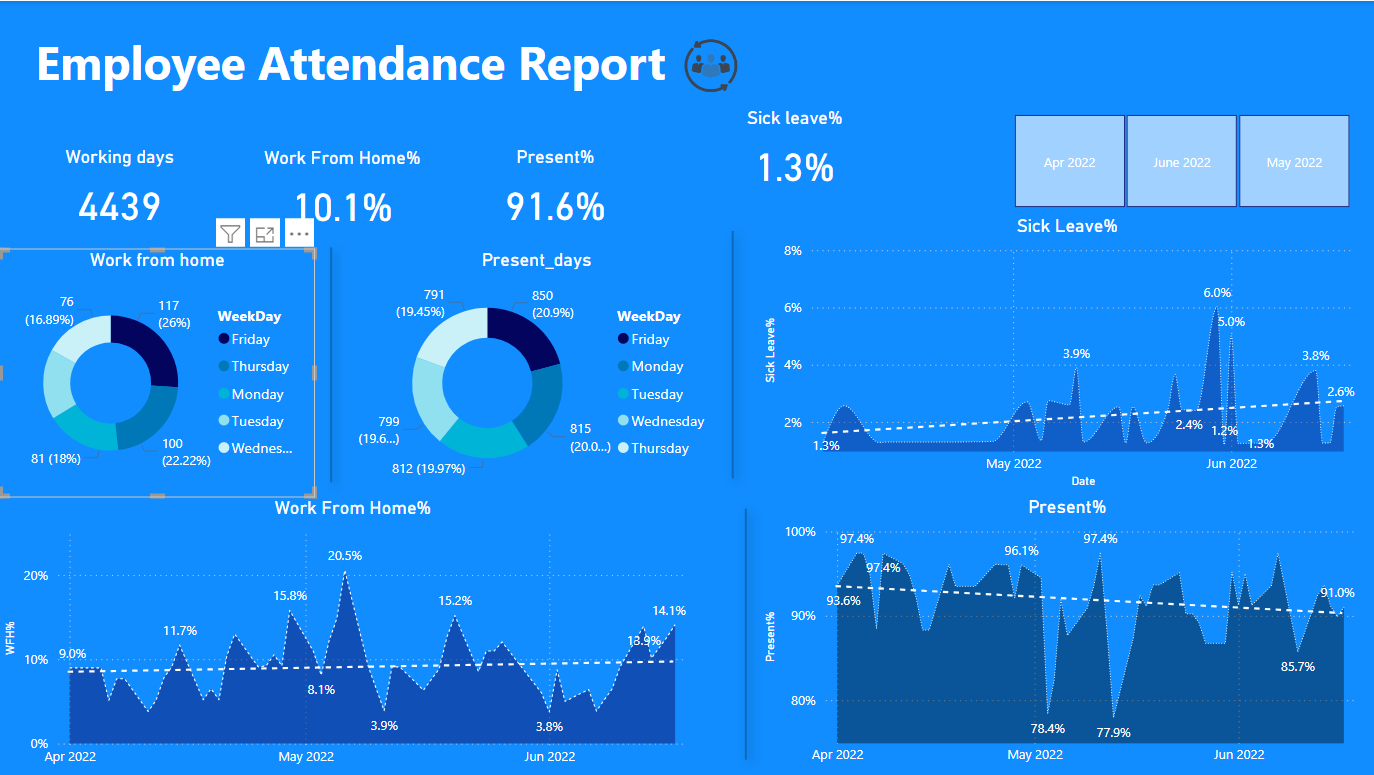

The dashboard page shown, as its layout file describes it:
{"tool":"powerbi","page":{"name":"Page 1","canvas":[1280,720],"ordinal":0},"visuals":[{"type":"card","title":"Working days","fields":{"Values":["Final Data.Total_working_days"]},"box":[12.8,134.9,198.8,87.2],"z":0},{"type":"slicer","fields":{"Values":["Final Data.Sheet No"]},"box":[918.6,98.8,361.6,100],"z":1000},{"type":"donutChart","title":"Present_days ","fields":{"Y":["Final Data.Present_days"],"Category":["Final Data.WeekDay"]},"box":[329.1,230.2,341.9,231.4],"z":2000},{"type":"donutChart","title":"Work from home","fields":{"Y":["Final Data.Work from home"],"Category":["Final Data.WeekDay"]},"box":[0,230.2,294.2,231.4],"z":3000},{"type":"areaChart","title":"Present%","fields":{"Y":["Final Data.Present%"],"Category":["Final Data.Date"]},"box":[707,460.5,573.3,259.3],"z":4000},{"type":"areaChart","title":"Sick Leave% ","fields":{"Category":["Final Data.Date"],"Y":["Final Data.Sick Leave%"]},"box":[707,198.8,573.3,259.3],"z":5000},{"type":"areaChart","title":"Work From Home%","fields":{"Category":["Final Data.Date"],"Y":["Final Data.WFH%"]},"box":[0,461.6,658.1,259.3],"z":6000},{"type":"card","title":"Present%","fields":{"Values":["Final Data.Present%"]},"box":[416.3,134.9,202.3,87.2],"z":7000},{"type":"card","title":"Sick leave%","fields":{"Values":["Final Data.Sick Leave%"]},"box":[658.1,98.8,164,86],"z":8000},{"type":"card","title":"Work From Home%","fields":{"Values":["Final Data.WFH%"]},"box":[211.6,136,215.1,86],"z":9000},{"type":"shape","box":[648.8,458.1,91.9,261.6],"z":10000},{"type":"shape","box":[658.1,200,48.8,258.1],"z":11000},{"type":"shape","box":[294.2,215.1,25.6,246.5],"z":12000},{"type":"textbox","box":[29.1,22.1,653.5,76.7],"z":13000},{"type":"image","box":[629.1,30.2,66.3,60.5],"z":14000}]}

Visuals, with their boxes in screenshot pixels (x1, y1, x2, y2), scaled from the page's 1280x720 canvas onto the 1374x775 screenshot:
"Working days" card: 14:145:227:239
slicer - Final Data.Sheet No: 986:106:1373:214
"Present_days " donutChart: 353:248:720:497
"Work from home" donutChart: 0:248:316:497
"Present%" areaChart: 759:496:1373:774
"Sick Leave% " areaChart: 759:214:1373:493
"Work From Home%" areaChart: 0:497:706:774
"Present%" card: 447:145:664:239
"Sick leave%" card: 706:106:882:199
"Work From Home%" card: 227:146:458:239
shape: 696:493:795:774
shape: 706:215:759:493
shape: 316:232:343:497
textbox: 31:24:733:106
image: 675:33:746:98
